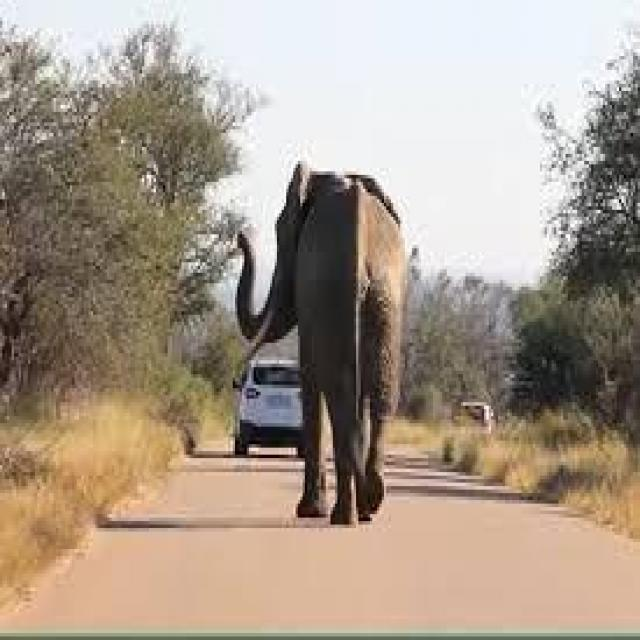Elephant: (217, 150, 409, 530)
